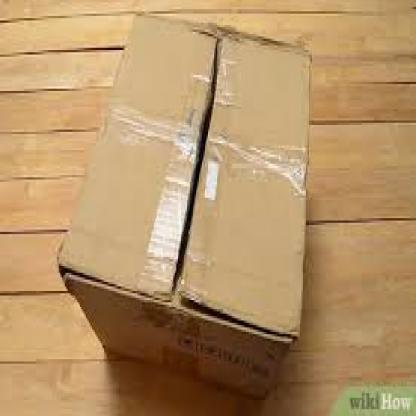paquete: (57, 5, 318, 412)
